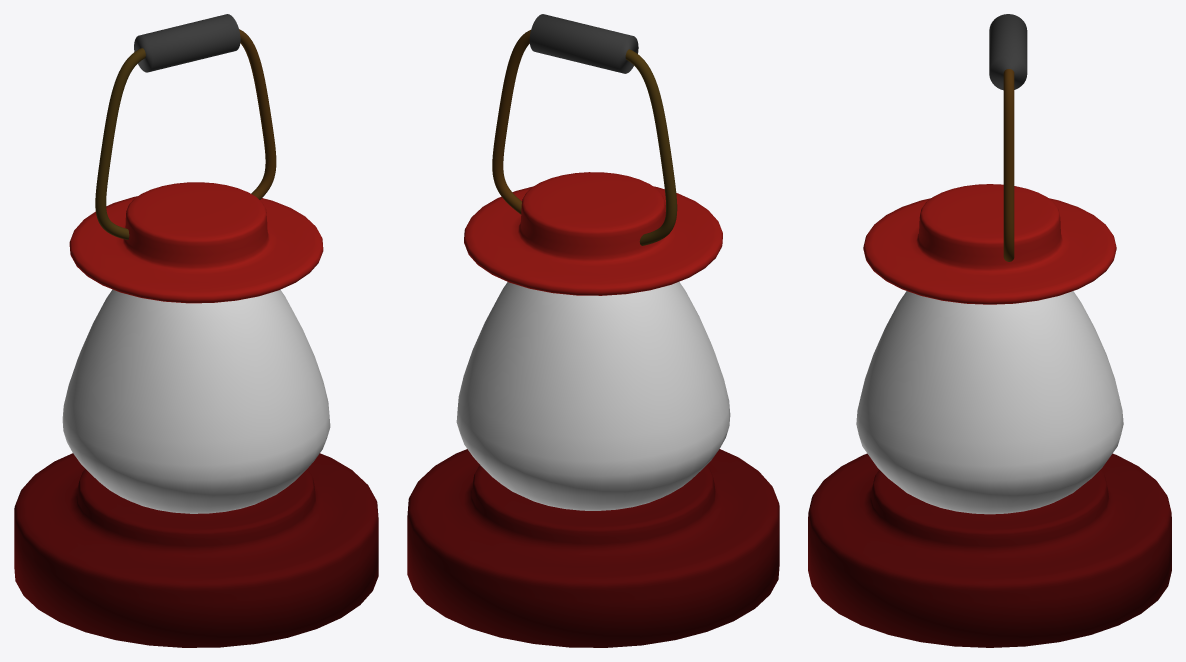
File: Lantern.fbx
3 views of the same model, side by side, from view 1: azimuth 30°, elevation 25°; view 2: azimuth 150°, elevation 25°; view 3: azimuth 270°, elevation 25° (orthographic). The views are drawn at different scales.
Visible parts, largest first — view 1: Plane.002, Plane.001, Plane, Cylinder, NurbsPath.000, NurbsPath.002; view 2: Plane.002, Plane.001, Plane, Cylinder, NurbsPath.000, NurbsPath.002; view 3: Plane.002, Plane.001, Plane, Cylinder, NurbsPath.002.
Part boxes in pixels (x1,y1,x2,y2): Plane.002: [14, 453, 378, 647]; Plane.001: [62, 289, 330, 513]; Plane: [69, 182, 323, 303]; Cylinder: [134, 14, 240, 72]; NurbsPath.000: [95, 48, 145, 239]; NurbsPath.002: [239, 29, 276, 199]; Plane.002: [407, 449, 779, 647]; Plane.001: [456, 282, 730, 510]; Plane: [464, 172, 722, 295]; Cylinder: [529, 14, 638, 73]; NurbsPath.000: [625, 49, 677, 245]; NurbsPath.002: [492, 30, 530, 214]; Plane.002: [808, 453, 1171, 647]; Plane.001: [856, 291, 1123, 514]; Plane: [863, 184, 1116, 304]; Cylinder: [989, 14, 1027, 90]; NurbsPath.002: [1003, 69, 1014, 261].
Bounding box in the file's own units: 1084 × 1771 × 1084.
